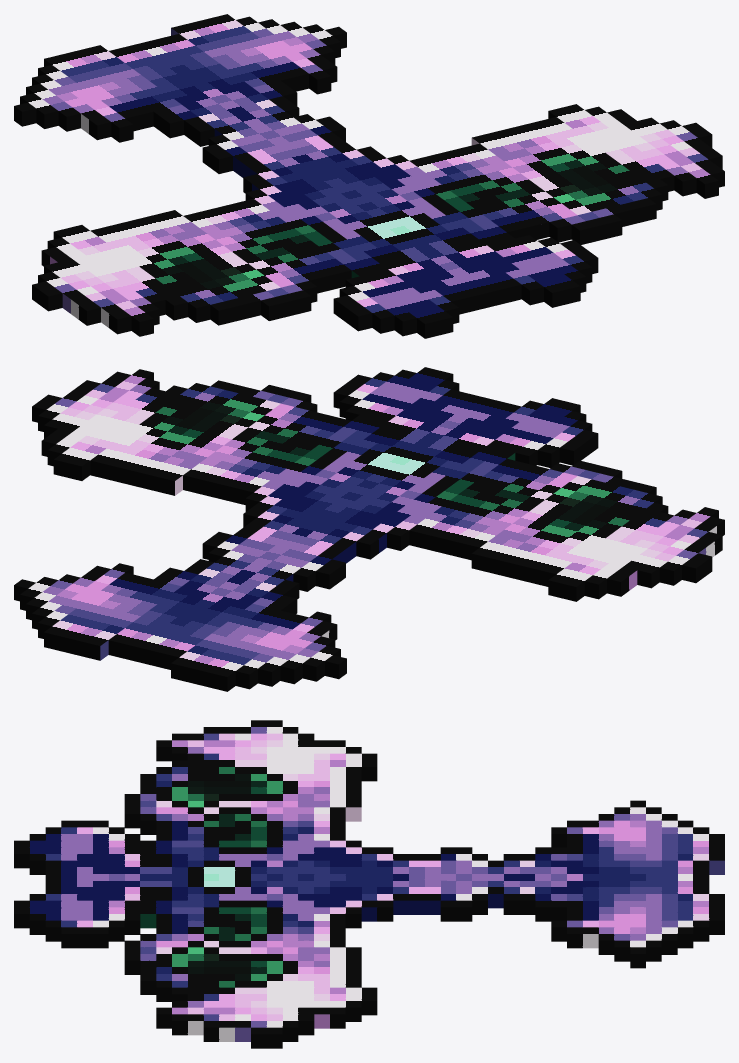
File: EnemyPlane.fbx
3 renders of one model, top to bottom at view 1: azimuth 30°, elevation 25°; view 2: azimuth 150°, elevation 25°; view 3: azimuth 270°, elevation 25°, orthographic. The views are drawn at different scales.
Parts seen in each view (by area): view 1: Short Old Sunflower; view 2: Short Old Sunflower; view 3: Short Old Sunflower.
Boxes of the visible parts, x1,y1,x2,y2 form: Short Old Sunflower: (14, 14, 724, 338); Short Old Sunflower: (14, 367, 724, 691); Short Old Sunflower: (14, 720, 724, 1048).
Size of the model in its own units: 100 by 2.13 by 95.74.
1 material, 1 textured.
